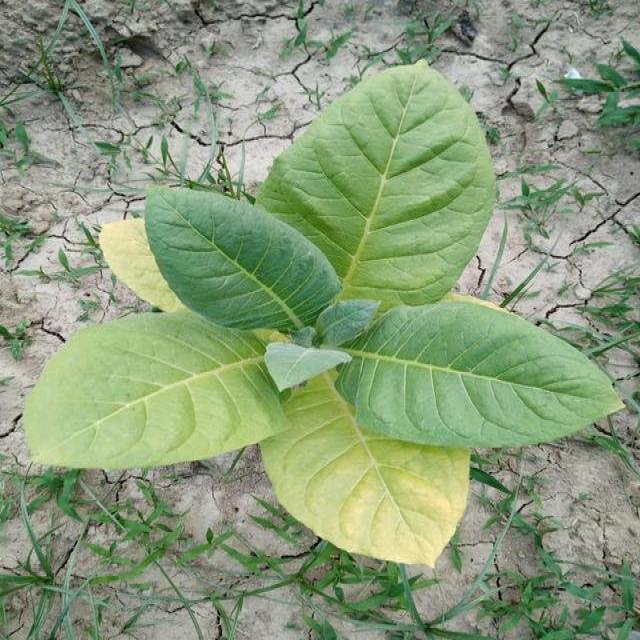crop: (18, 55, 624, 580)
